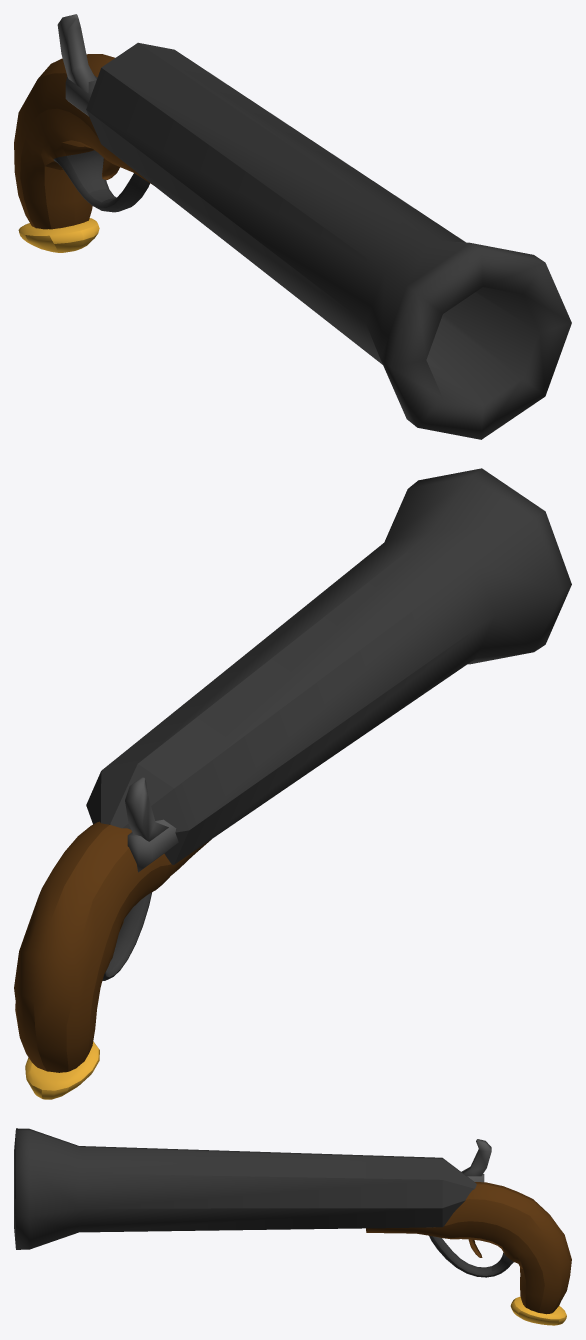
File: arma_4_01.fbx
3 views of the same model, one above another, from view 1: azimuth 30°, elevation 25°; view 2: azimuth 150°, elevation 25°; view 3: azimuth 270°, elevation 25° (orthographic). The views are drawn at different scales.
Visible parts, largest first — view 1: 5; view 2: 5; view 3: 5.
Boxes of the visible parts, x1=… form: 5: x1=14, y1=14, x2=571, y2=439; 5: x1=14, y1=468, x2=571, y2=1099; 5: x1=14, y1=1128, x2=571, y2=1325.
Size of the model in its own units: 19.78 by 32.62 by 85.33.
